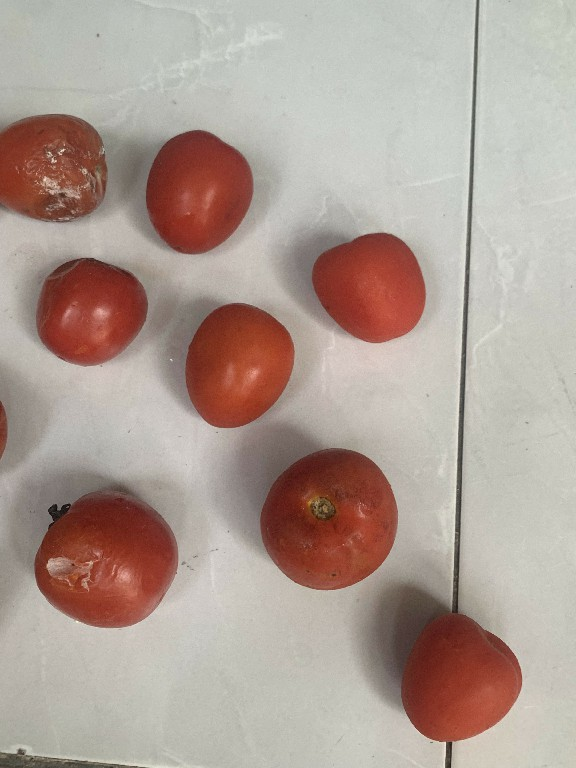NG: (22, 485, 177, 631), (29, 251, 150, 369), (0, 108, 106, 223)
OK: (257, 445, 396, 596), (396, 600, 529, 755), (142, 127, 260, 260), (307, 225, 438, 344), (179, 301, 297, 431)
